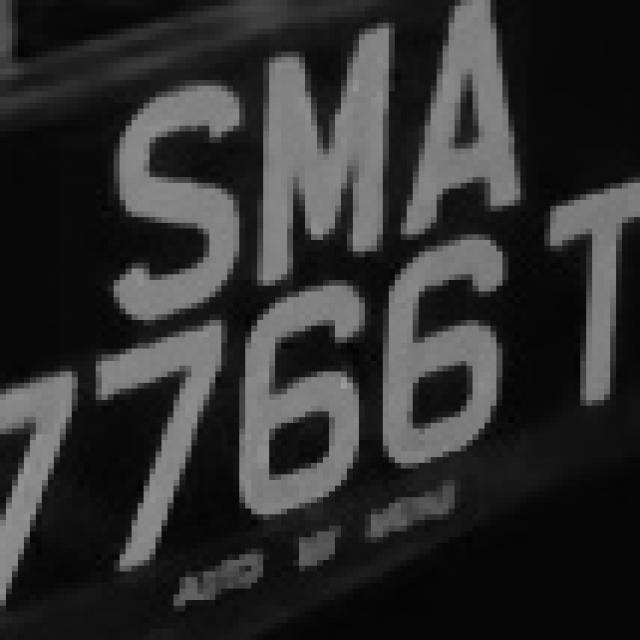6: (365, 246, 514, 480), (233, 286, 371, 531)
7: (78, 326, 227, 571)
A: (395, 11, 562, 206)
M: (233, 23, 401, 286)
S: (84, 80, 251, 331)
T: (508, 177, 640, 406)
